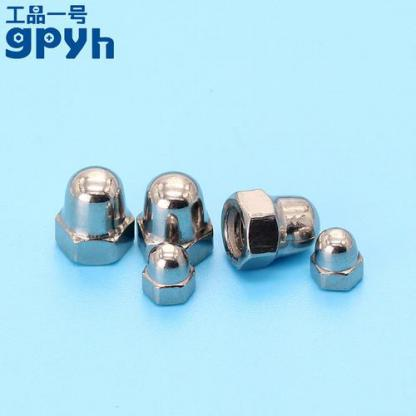FOD: (222, 186, 323, 281), (47, 166, 134, 270), (135, 164, 218, 266), (134, 241, 201, 311), (309, 225, 368, 295)
